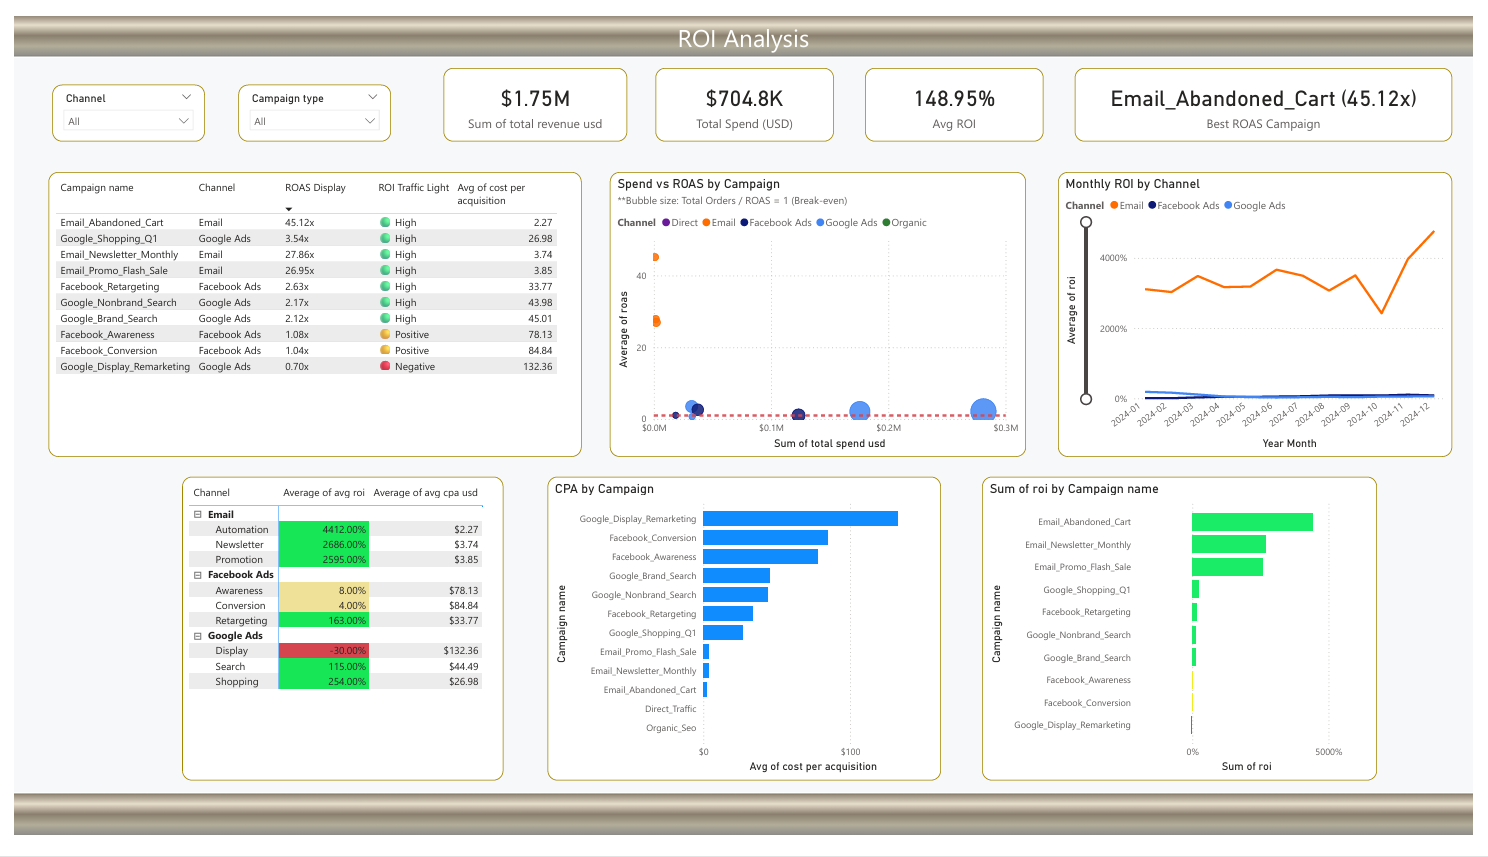

This screenshot's page, from the dashboard's own definition file:
{"tool":"powerbi","page":{"name":"ROI Analysis","canvas":[1920,1080],"ordinal":2},"visuals":[{"type":"textbox","box":[724.1,0,472,66.6],"z":1000},{"type":"card","fields":{"Values":["Sum(v_campaign_roi.total_revenue_usd)"]},"box":[564.8,67.5,242.1,97.6],"z":2000},{"type":"card","fields":{"Values":["Sum(v_campaign_roi.total_spend_usd)"]},"box":[844.4,67.5,234.5,97.6],"z":3000},{"type":"card","fields":{"Values":["_measure.Avg ROI"]},"box":[1120.2,67.5,234.5,97.6],"z":4000},{"type":"card","fields":{"Values":["_measure.Best ROAS Campaign"]},"box":[1396,67.5,497.2,97.6],"z":5000},{"type":"clusteredBarChart","fields":{"Category":["v_campaign_roi.campaign_name"],"Y":["Sum(v_campaign_roi.roi)"]},"box":[1274.1,606.1,519.8,399.7],"z":6000},{"type":"scatterChart","title":"Spend vs ROAS by Campaign","fields":{"X":["Sum(v_campaign_roi.total_spend_usd)"],"Y":["Avg(v_campaign_roi.roas)"],"Size":["Sum(v_campaign_roi.total_orders)"],"Series":["v_campaign_roi.channel"],"Category":["v_campaign_roi.campaign_name"]},"box":[784.3,204.5,547.9,375.3],"z":7000},{"type":"lineChart","title":"Monthly ROI by Channel","fields":{"Category":["v_monthly_roi_trend.year_month"],"Y":["Avg(v_monthly_roi_trend.roi)"],"Series":["v_monthly_roi_trend.channel"]},"box":[1373.5,204.5,519.8,375.3],"z":8000},{"type":"clusteredBarChart","title":"CPA by Campaign","fields":{"Category":["v_campaign_roi.campaign_name"],"Y":["Avg(v_campaign_roi.cost_per_acquisition)"]},"box":[701.8,606.1,517.9,399.7],"z":9000},{"type":"pivotTable","fields":{"Values":["Avg(v_campaign_type_roi.avg_roi)","Avg(v_campaign_type_roi.avg_cpa_usd)"],"Rows":["v_campaign_type_roi.channel","v_campaign_type_roi.campaign_type"]},"box":[221.4,606.1,422.2,399.7],"z":10000},{"type":"tableEx","fields":{"Values":["v_campaign_roi.campaign_name","v_campaign_roi.channel","_measure.ROAS Display","_measure.ROI Traffic Light","Avg(v_campaign_roi.cost_per_acquisition)"]},"box":[45,204.5,701.8,375.3],"z":12000},{"type":"slicer","fields":{"Values":["dim_channel.channel"]},"box":[50.2,90,201,75.4],"z":13000},{"type":"slicer","fields":{"Values":["dim_campaign_type.campaign_type"]},"box":[295.2,90,201,75.4],"z":14000}]}

Visuals, with their boxes in screenshot pixels (x1, y1, x2, y2), scaled from the page's 1920x1080 canvas onto the 1488x857 screenshot:
textbox: <box>561,0,927,53</box>
card - Sum(v_campaign_roi.total_revenue_usd): <box>438,54,625,131</box>
card - Sum(v_campaign_roi.total_spend_usd): <box>654,54,836,131</box>
card - _measure.Avg ROI: <box>868,54,1050,131</box>
card - _measure.Best ROAS Campaign: <box>1082,54,1467,131</box>
clusteredBarChart - v_campaign_roi.campaign_name x Sum(v_campaign_roi.roi): <box>987,481,1390,798</box>
"Spend vs ROAS by Campaign" scatterChart: <box>608,162,1032,460</box>
"Monthly ROI by Channel" lineChart: <box>1064,162,1467,460</box>
"CPA by Campaign" clusteredBarChart: <box>544,481,945,798</box>
pivotTable - Avg(v_campaign_type_roi.avg_roi) x Avg(v_campaign_type_roi.avg_cpa_usd): <box>172,481,499,798</box>
tableEx - v_campaign_roi.campaign_name x v_campaign_roi.channel: <box>35,162,579,460</box>
slicer - dim_channel.channel: <box>39,71,195,131</box>
slicer - dim_campaign_type.campaign_type: <box>229,71,385,131</box>
